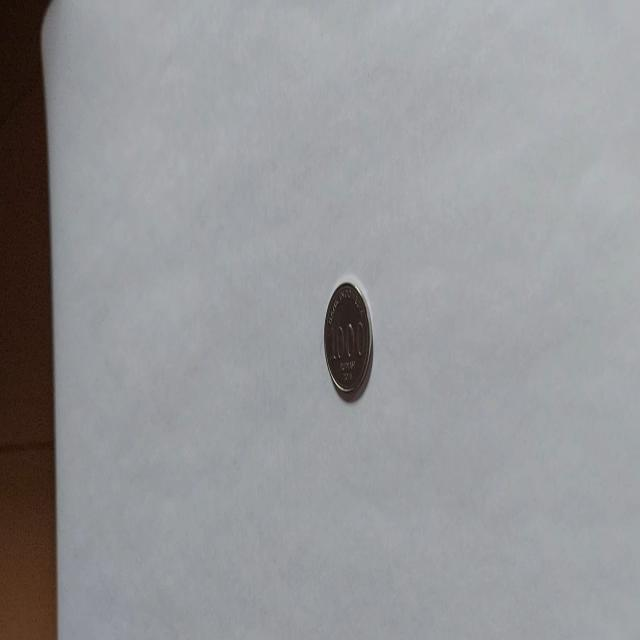seribu rupiah koin: (322, 279, 373, 403)
